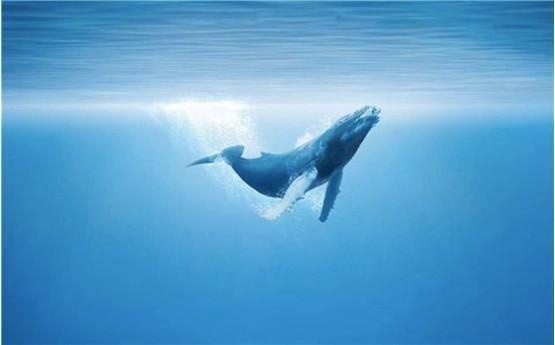fish: (185, 104, 383, 222)
